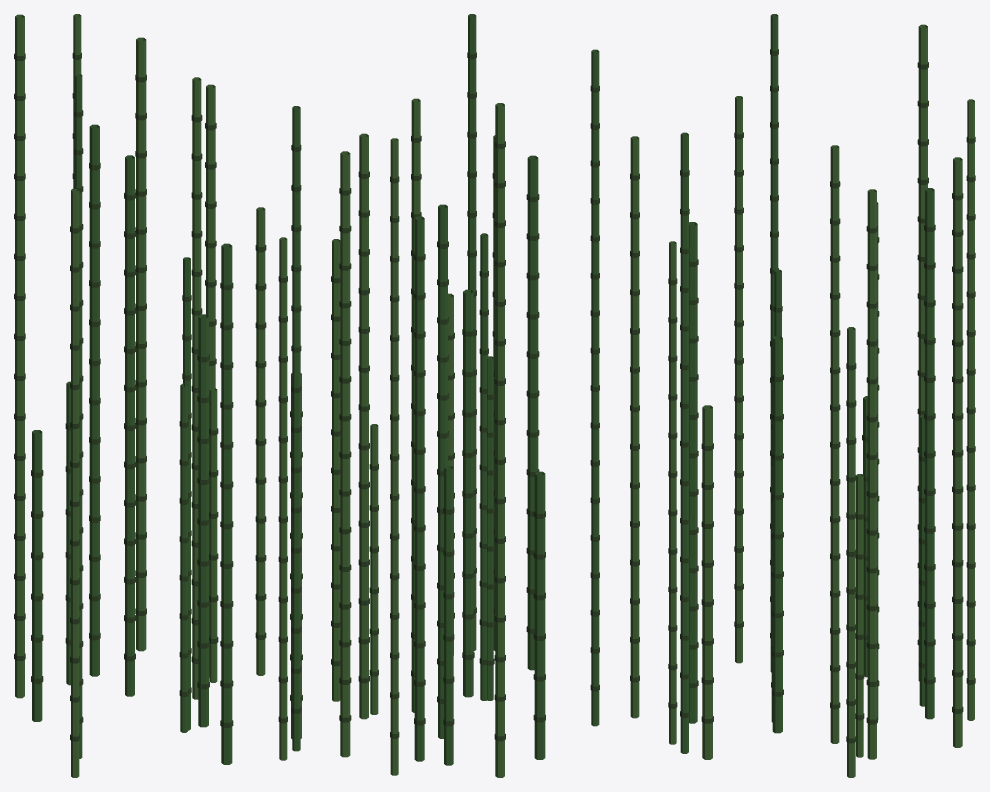
File: horsetail_v2.glb
3 views of the same model, side by side, from view 1: azimuth 30°, elevation 25°; view 2: azimuth 150°, elevation 25°; view 3: azimuth 270°, elevation 25° (orthographic). The views are drawn at different scales.
Parts seen in each view (by area): view 1: horsetail_v2; view 2: horsetail_v2; view 3: horsetail_v2.
Part boxes in pixels (x1=…): horsetail_v2: x1=14, y1=14, x2=302, y2=777; horsetail_v2: x1=331, y1=14, x2=639, y2=777; horsetail_v2: x1=668, y1=14, x2=975, y2=777.
Bounding box in the file's own units: 0.418 × 1.08 × 0.4588.
